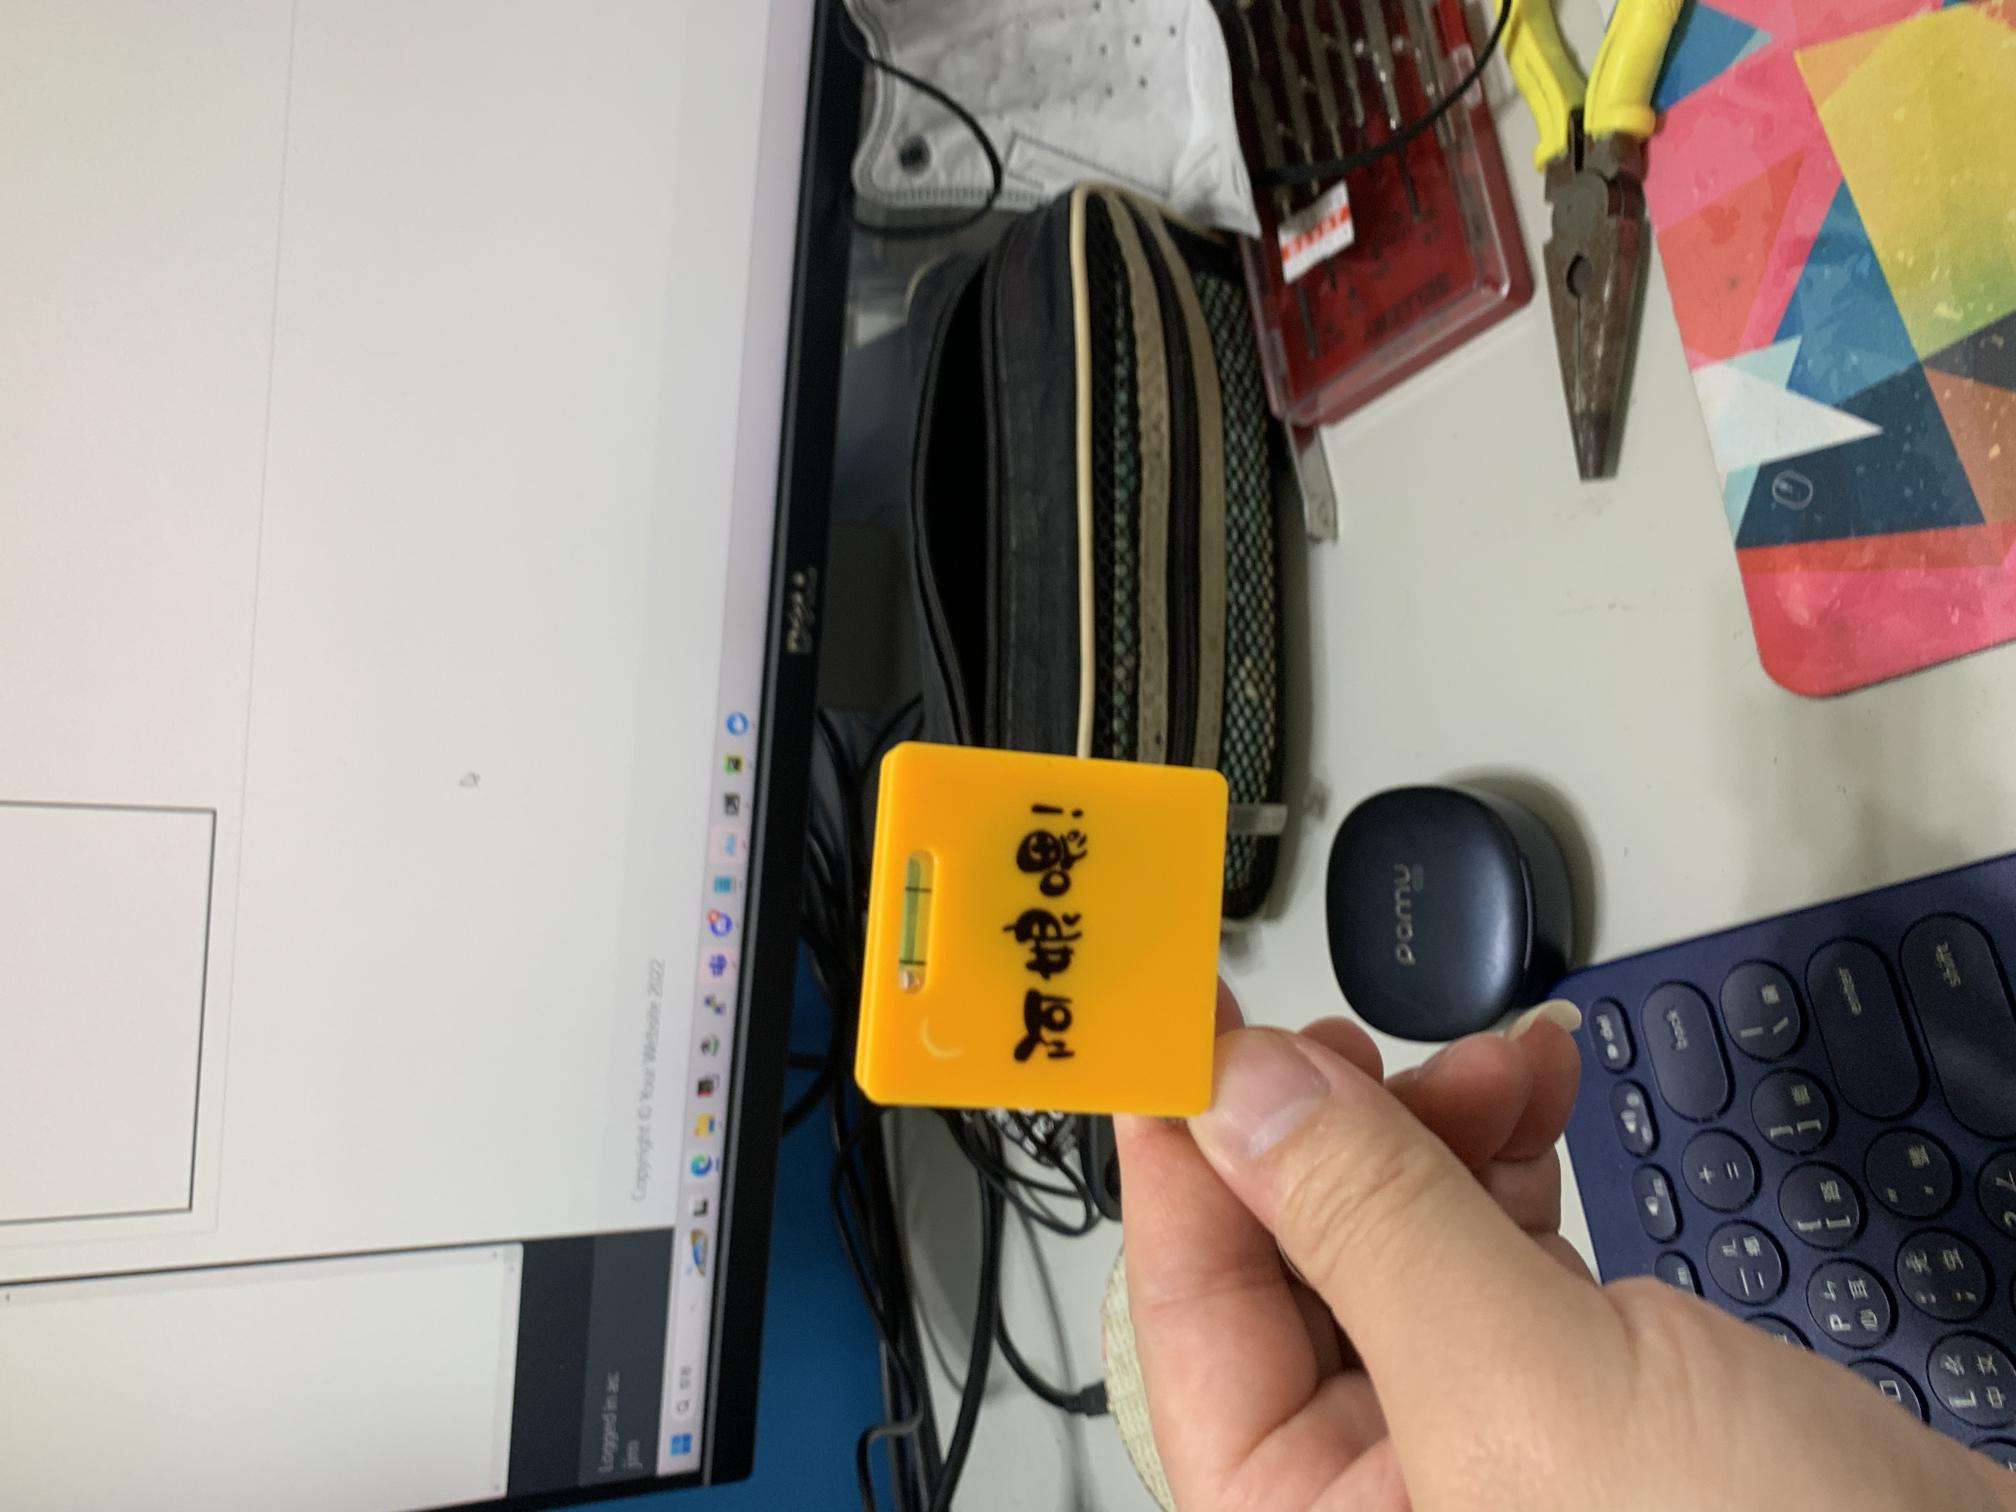Laio: (869, 740, 1233, 1119)
